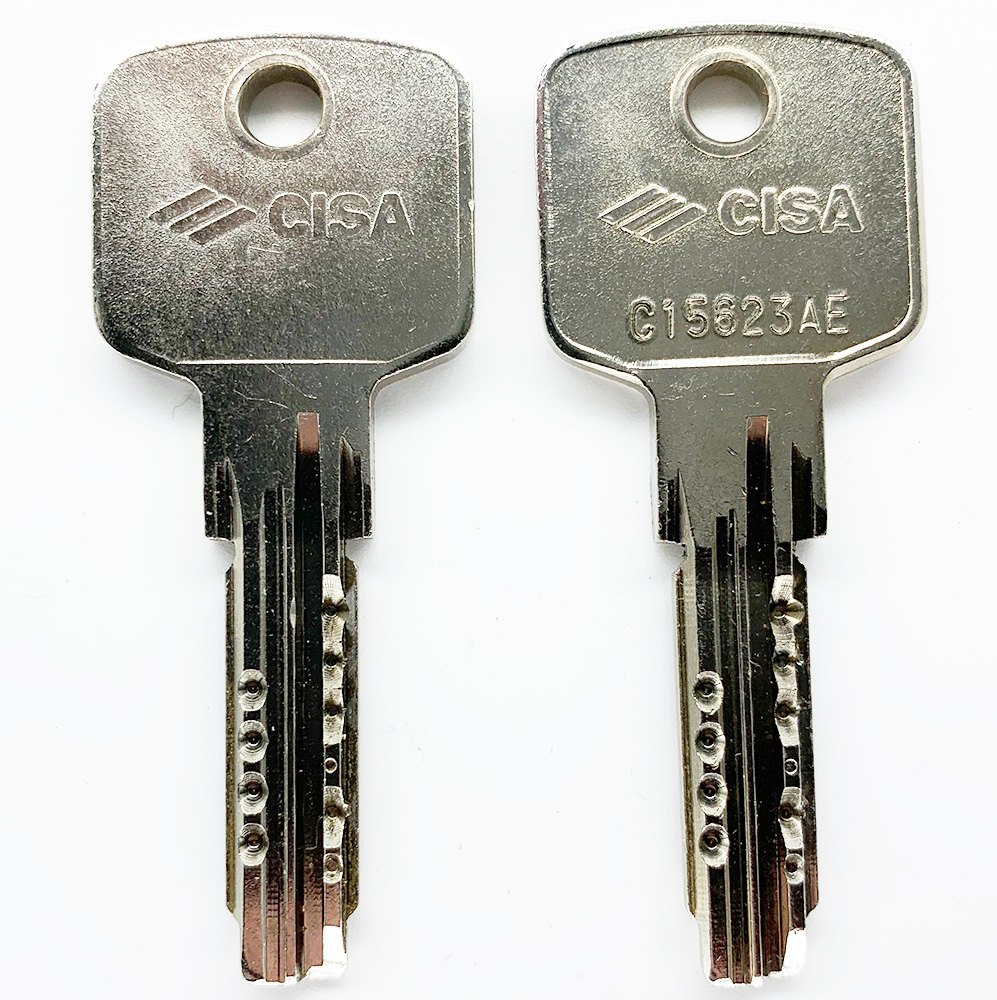key: (538, 22, 927, 984), (90, 32, 479, 991)
